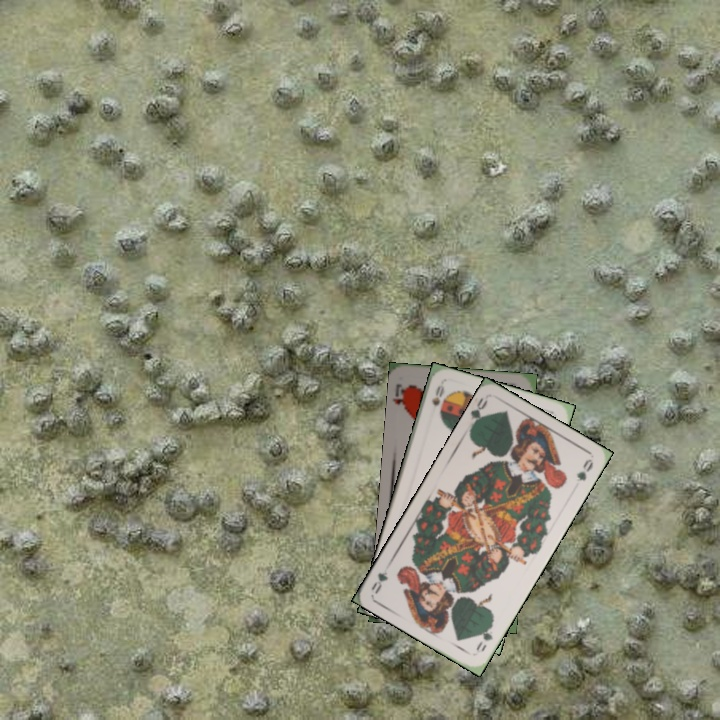GO: (466, 394, 491, 432), (472, 618, 496, 654)
HO: (389, 380, 410, 412)
SO: (427, 381, 447, 409)
